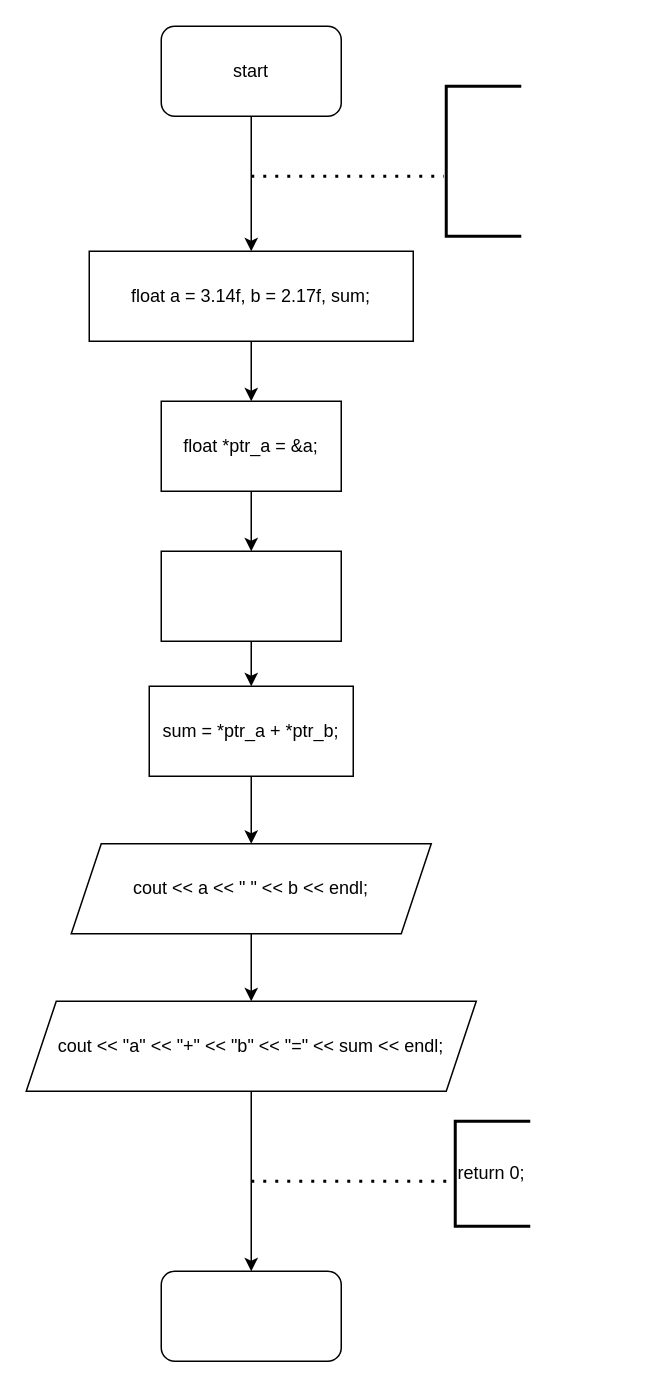
Image size: 651x1388. Some labels were removed from this diagram. The shapes that lost their labels are listed below. From the top down, each one's box as (x1, y1, x2, y2) in pixels, then its label:
(444, 84, 522, 237): #include <iostream> using namespace std; int main ()
(160, 550, 341, 641): float *ptr_b = &b;
(160, 1270, 341, 1361): end
